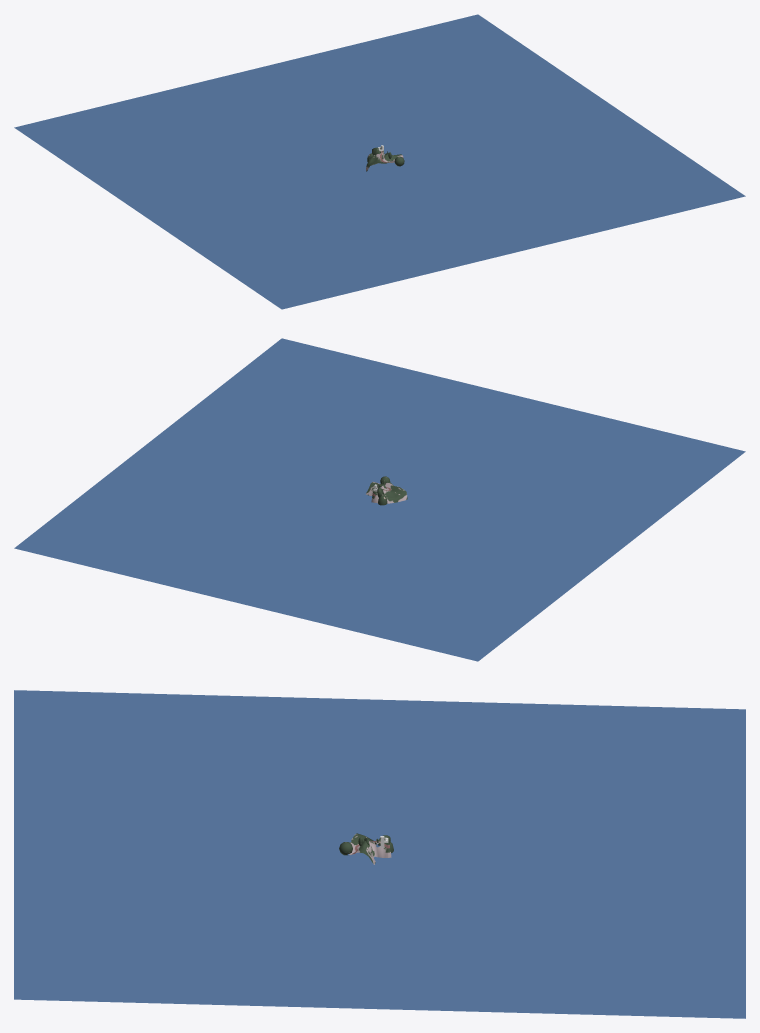
File: Fortress.glb
The picture shows the model from 3 angles, top to bottom: view 1: azimuth 30°, elevation 25°; view 2: azimuth 150°, elevation 25°; view 3: azimuth 270°, elevation 25°; orthographic projection. The views are drawn at different scales.
Visible parts, largest first — view 1: Water; view 2: Water, Ground; view 3: Water, Ground.
Part boxes in pixels (x1=…): Water: x1=14, y1=14, x2=745, y2=309; Water: x1=14, y1=338, x2=745, y2=661; Ground: x1=366, y1=481, x2=407, y2=503; Water: x1=14, y1=690, x2=745, y2=1018; Ground: x1=347, y1=833, x2=391, y2=864.
Bounding box in the file's own units: 1531 × 68.53 × 1530.
5 materials, 1 textured.
